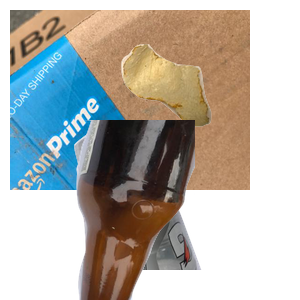cardboard: (10, 10, 250, 190)
glass: (60, 120, 300, 300)
plastic: (71, 120, 265, 300)
trash: (119, 42, 300, 161)
